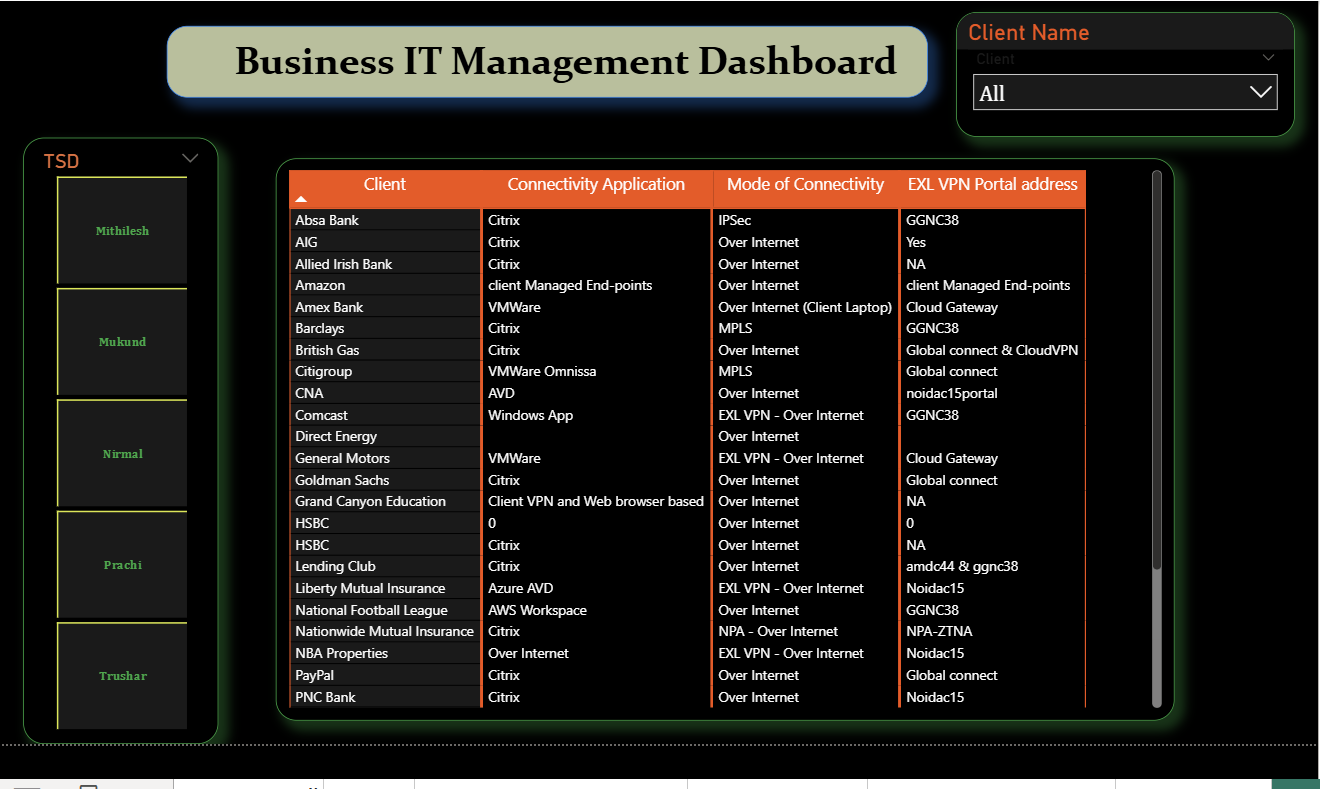

The dashboard page shown, as its layout file describes it:
{"tool":"powerbi","page":{"name":"Connectivity","canvas":[1280,720],"ordinal":0},"visuals":[{"type":"textbox","box":[165,24.2,737.4,69.7],"z":0},{"type":"image","box":[0,0,128.5,119.1],"z":1000},{"type":"slicer","title":"Client Name","fields":{"Values":["SDC.Client"]},"box":[929.7,10.6,328.6,121.1],"z":2000},{"type":"slicer","fields":{"Values":["SDC.TSD"]},"box":[25.7,131.7,189.3,587.5],"z":3000},{"type":"tableEx","fields":{"Values":["SDC.Client","SDC.Connectivity Application","SDC.Mode of Connectivity","SDC.EXL VPN Portal address"]},"box":[269.5,152.9,870.7,545.1],"z":4000}]}

Visuals, with their boxes on the page's 1280x720 design canvas (x1, y1, x2, y2). These are canvas units, not pixel positions in the 1320x789 screenshot, which may show the page scaled, cropped or inside an application window:
textbox: bbox=(165, 24, 902, 94)
image: bbox=(0, 0, 128, 119)
"Client Name" slicer: bbox=(930, 11, 1258, 132)
slicer - SDC.TSD: bbox=(26, 132, 215, 719)
tableEx - SDC.Client x SDC.Connectivity Application: bbox=(270, 153, 1140, 698)
